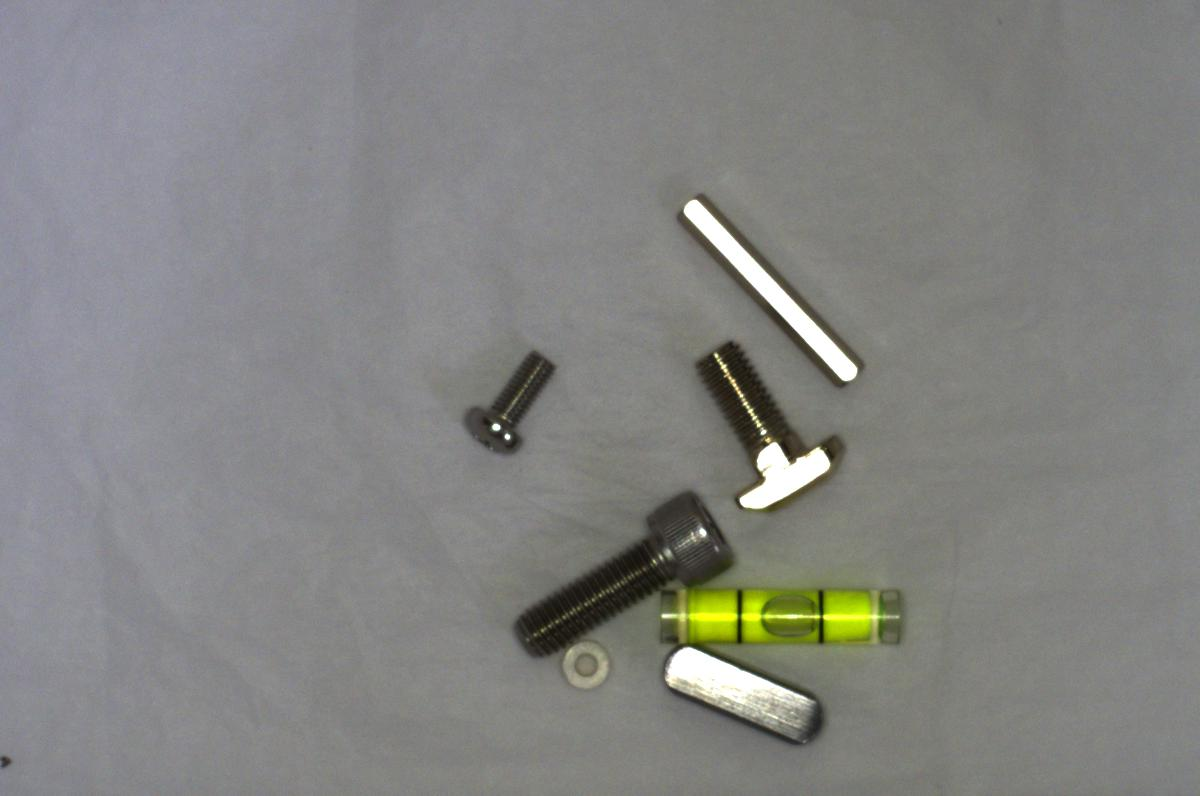Double hexagonal column: (678, 183, 867, 392)
Hexagon screw: (504, 479, 735, 661)
Horizontal bubble: (647, 574, 911, 655)
Keybar: (642, 640, 840, 753)
Plastic cushion pillar: (551, 630, 611, 698)
T-shaped screw: (690, 339, 848, 515)
